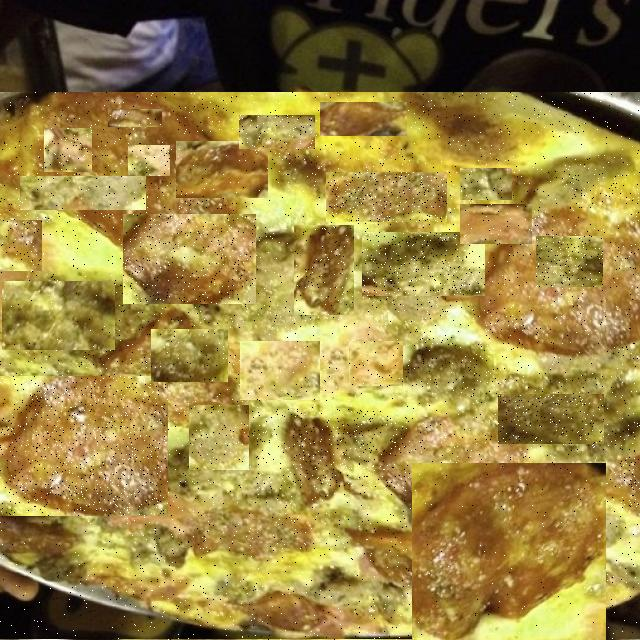Beef: (256, 409, 410, 489), (362, 232, 485, 296), (2, 281, 115, 350), (12, 517, 125, 570), (498, 394, 604, 444), (20, 176, 146, 210), (151, 329, 228, 382), (189, 405, 249, 470), (536, 236, 603, 287), (239, 115, 315, 149), (460, 168, 512, 200)
Ham: (240, 341, 320, 400), (460, 204, 532, 244), (349, 342, 403, 388), (44, 128, 92, 172), (620, 422, 640, 508), (128, 145, 170, 176), (613, 238, 640, 282)
Pepperoni: (412, 463, 606, 640), (0, 376, 168, 516), (123, 214, 256, 304), (407, 306, 526, 390), (326, 172, 447, 222), (294, 225, 354, 315), (176, 141, 268, 198), (320, 102, 407, 136), (569, 174, 639, 208), (0, 220, 42, 271), (108, 109, 162, 127)
Pizza: (0, 92, 640, 640)
